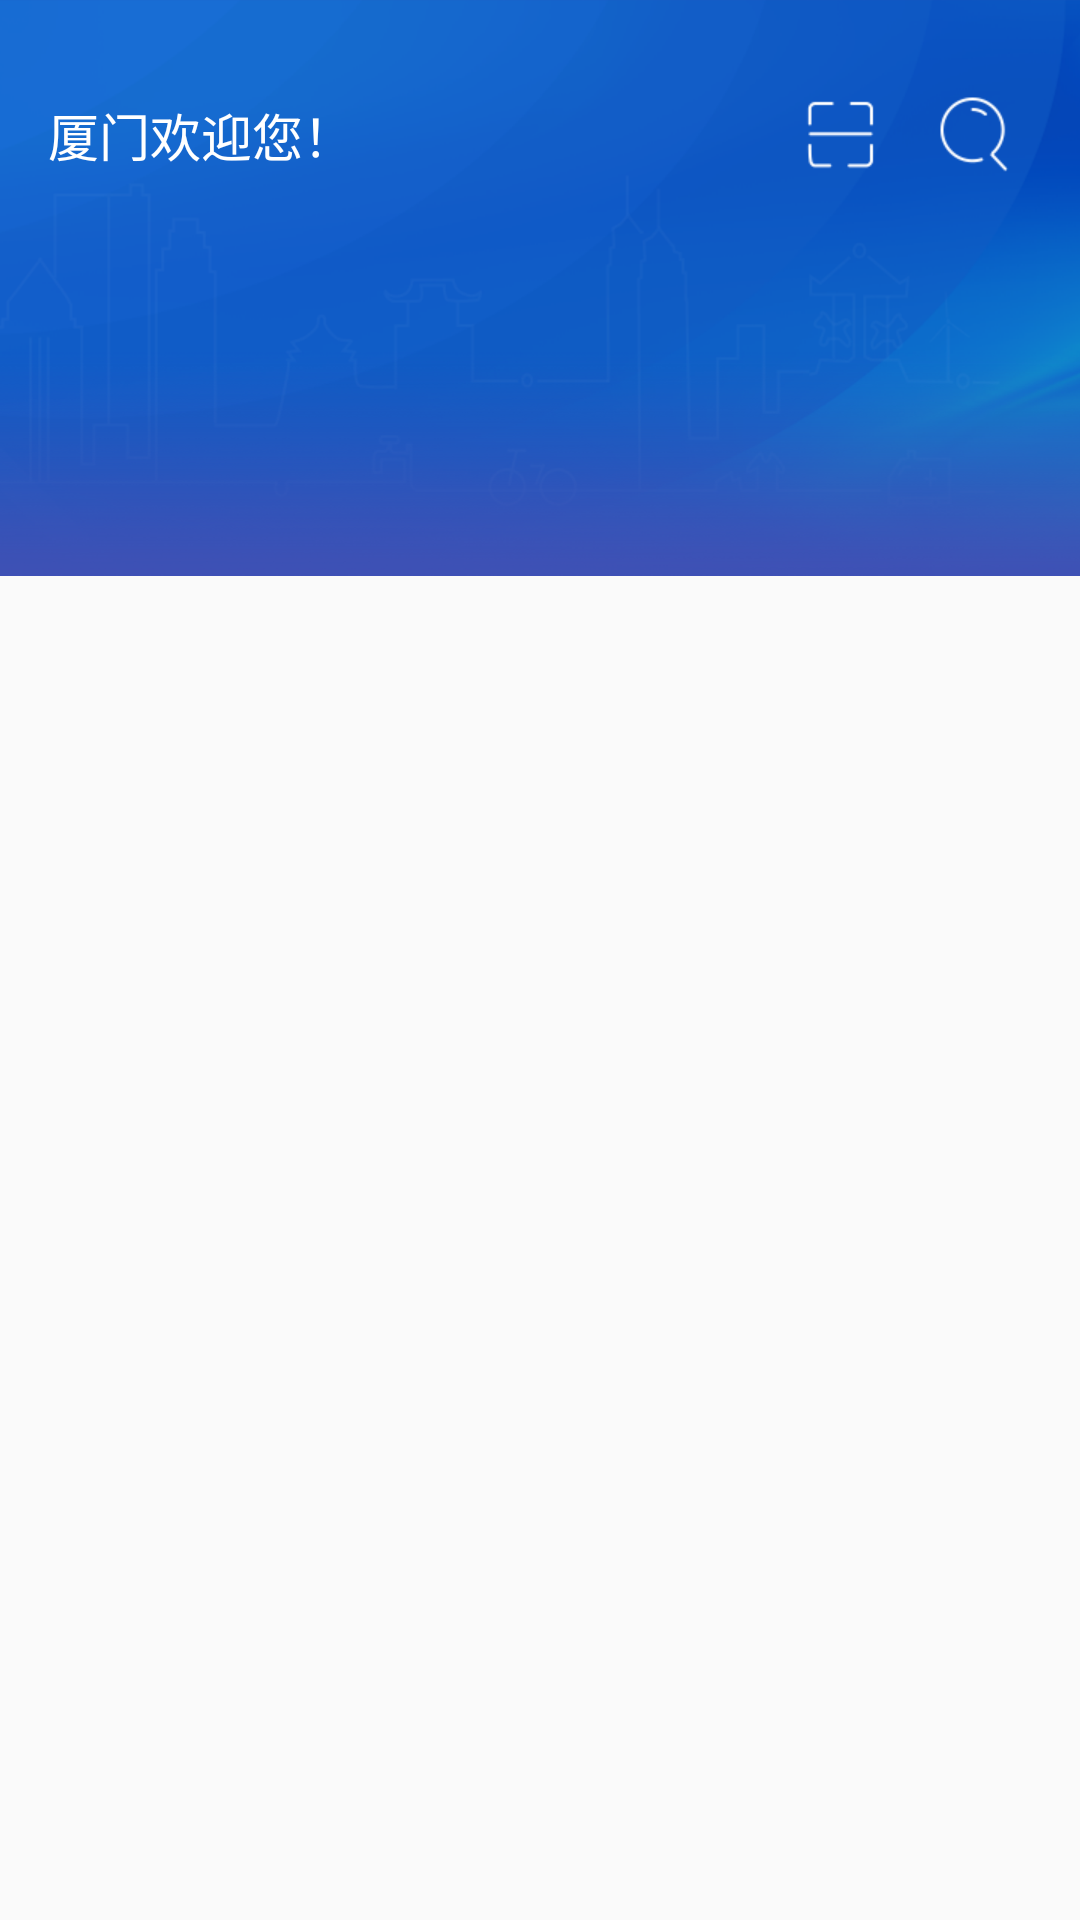

Icons on this 1080px×1920px Android screen, each with its box as rect(x1, y1, x2, y2):
scan: rect(807, 101, 874, 168)
search: rect(940, 97, 1008, 171)
